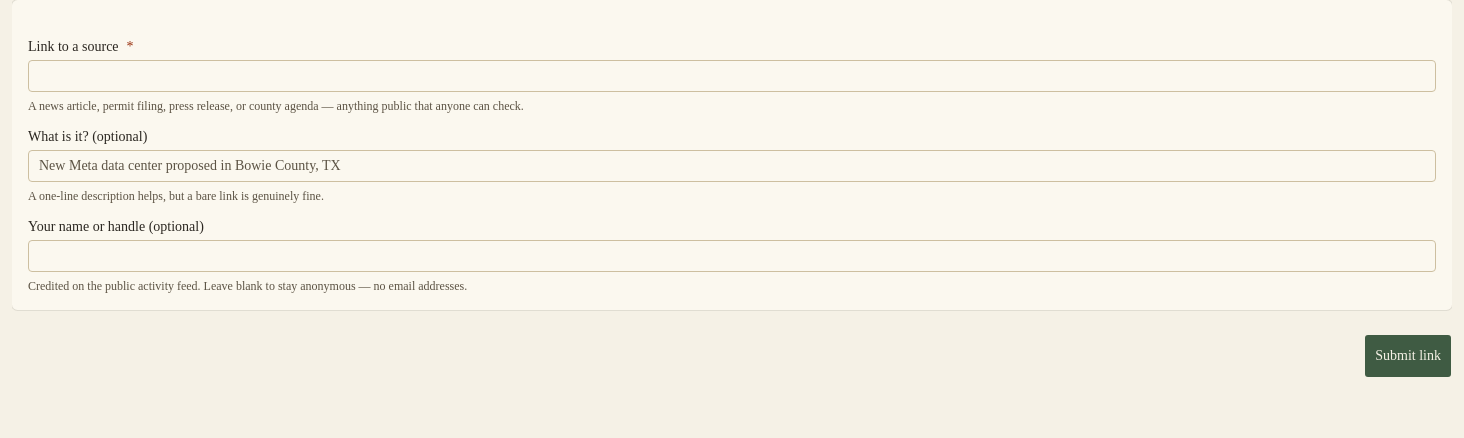
ContributeLeadForm — submit outcomes › surfaces the rate-limit message from a 429 response
The image size is (1464, 438).
Type "https://example.com/article" into the field labelled "Link to a source *" at (732, 76), box [28,60,1436,92]
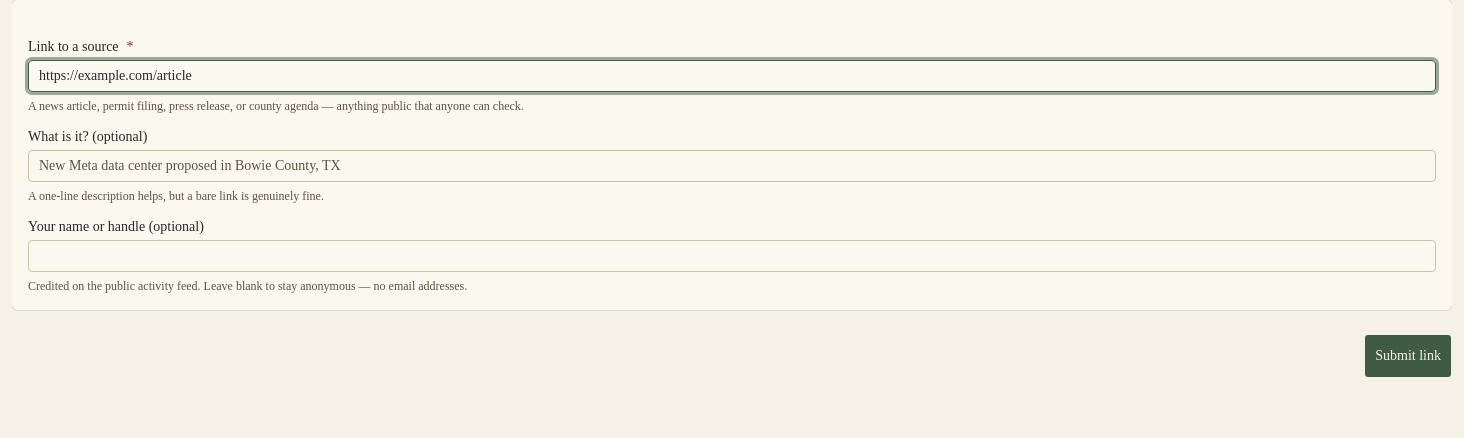
Click the button "Submit link" at (1408, 356), box [1364,334,1452,378]
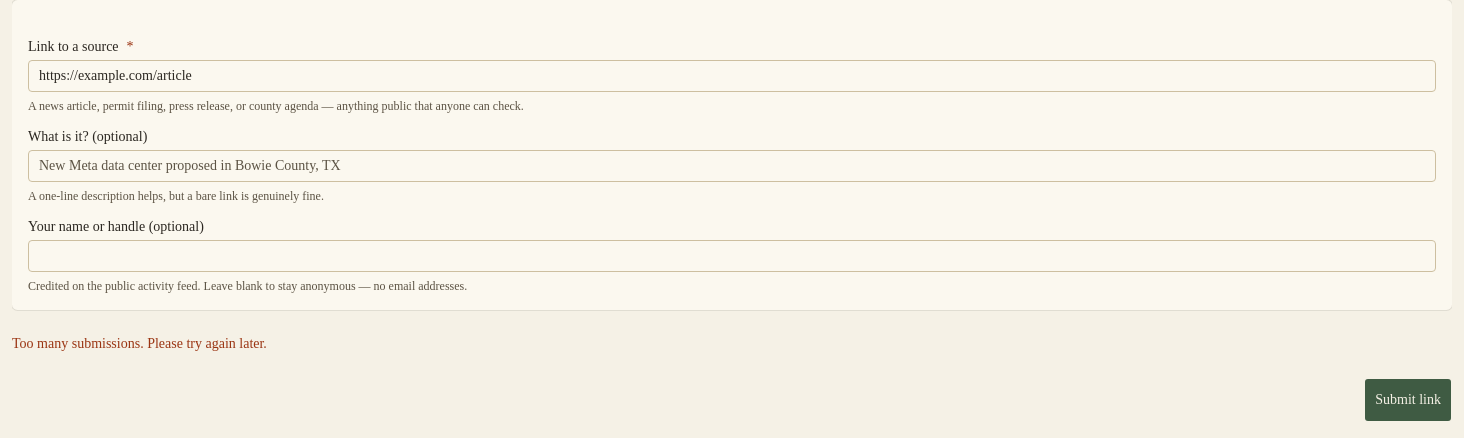
Now the text "Too many submissions. Please try again later." is shown, box [12,336,267,351]
